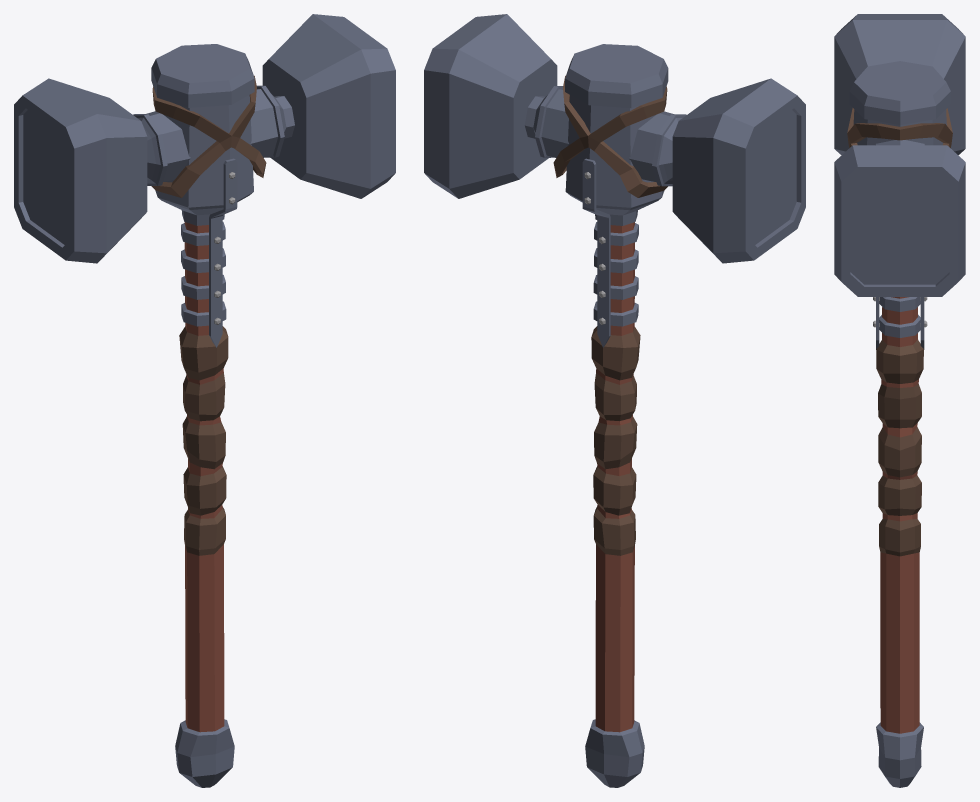
File: MartilloDoble 1.fbx
3 renders of one model, left to right at view 1: azimuth 30°, elevation 25°; view 2: azimuth 150°, elevation 25°; view 3: azimuth 270°, elevation 25°, orthographic. The views are drawn at different scales.
Visible parts, largest first — view 1: Hammer_Double; view 2: Hammer_Double; view 3: Hammer_Double.
Boxes of the visible parts, <box> form: Hammer_Double: <box>14,14,395,787</box>; Hammer_Double: <box>424,14,805,787</box>; Hammer_Double: <box>834,14,965,787</box>.
Size of the model in its own units: 118 by 253 by 42.91.
